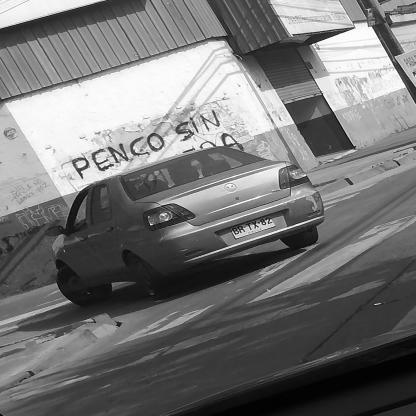Patente: (229, 213, 277, 242)
